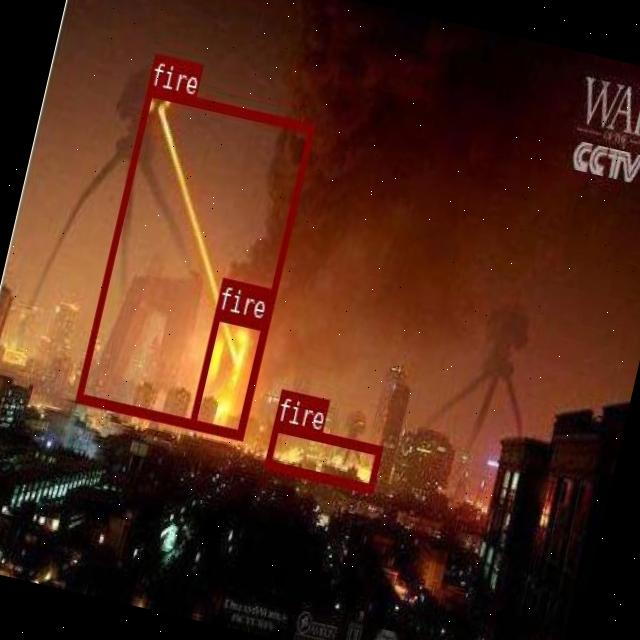fire: (75, 85, 313, 437), (188, 309, 268, 438), (263, 420, 382, 491)
